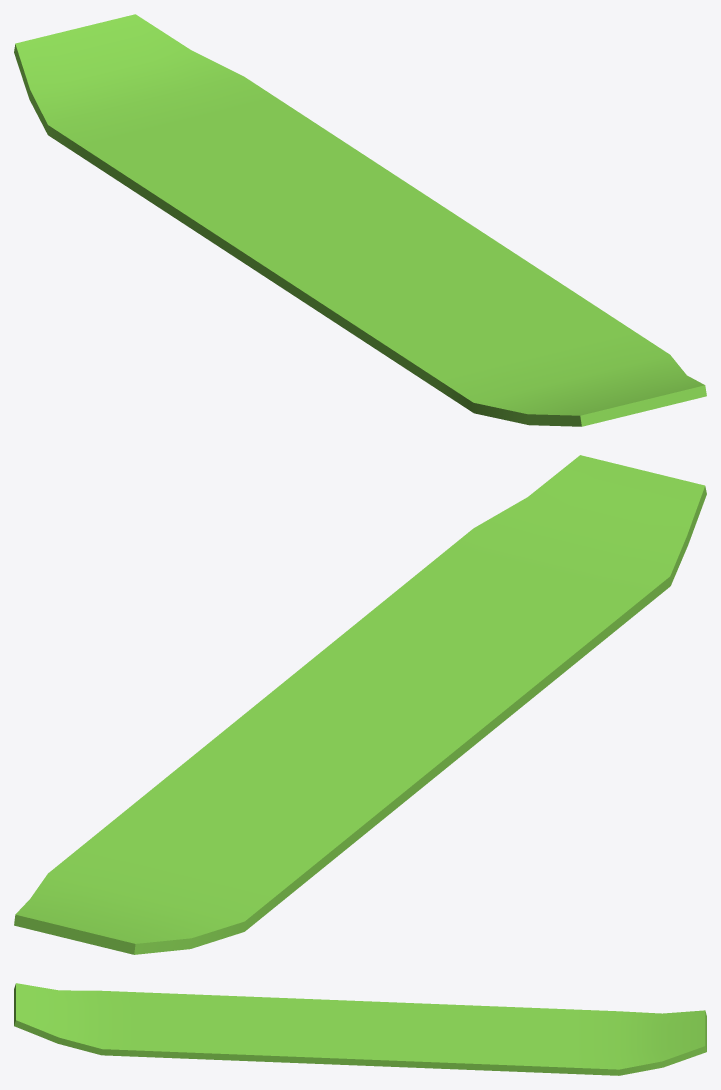
File: road.dae
3 views of the same model, one above another, from view 1: azimuth 30°, elevation 25°; view 2: azimuth 150°, elevation 25°; view 3: azimuth 270°, elevation 25° (orthographic). The views are drawn at different scales.
Visible parts, largest first — view 1: Plane001; view 2: Plane001; view 3: Plane001.
Part boxes in pixels (x1,y1,x2,y2): Plane001: (14, 14, 706, 426); Plane001: (14, 455, 706, 954); Plane001: (14, 983, 706, 1075).
Bounding box in the file's own units: 400 × 2009 × 144.
